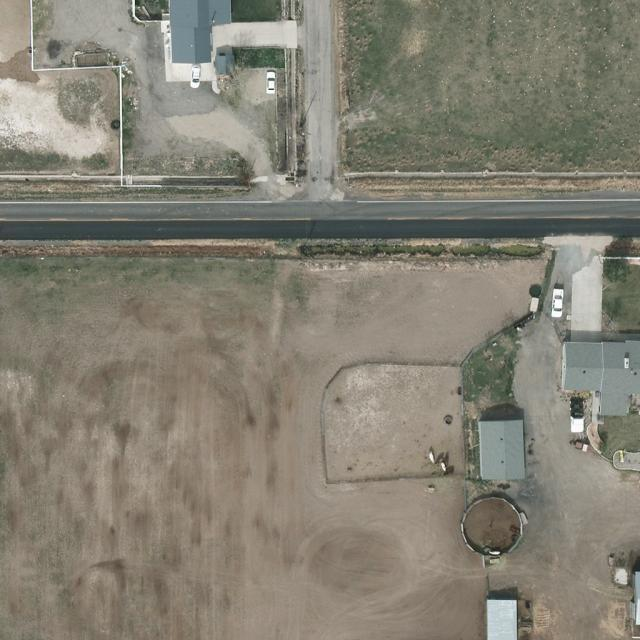vehicle: (568, 398, 586, 435), (552, 288, 564, 318), (264, 70, 276, 96), (190, 66, 202, 90)
